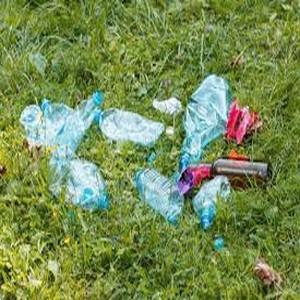Plastic: (95, 105, 163, 148), (136, 162, 183, 222)
